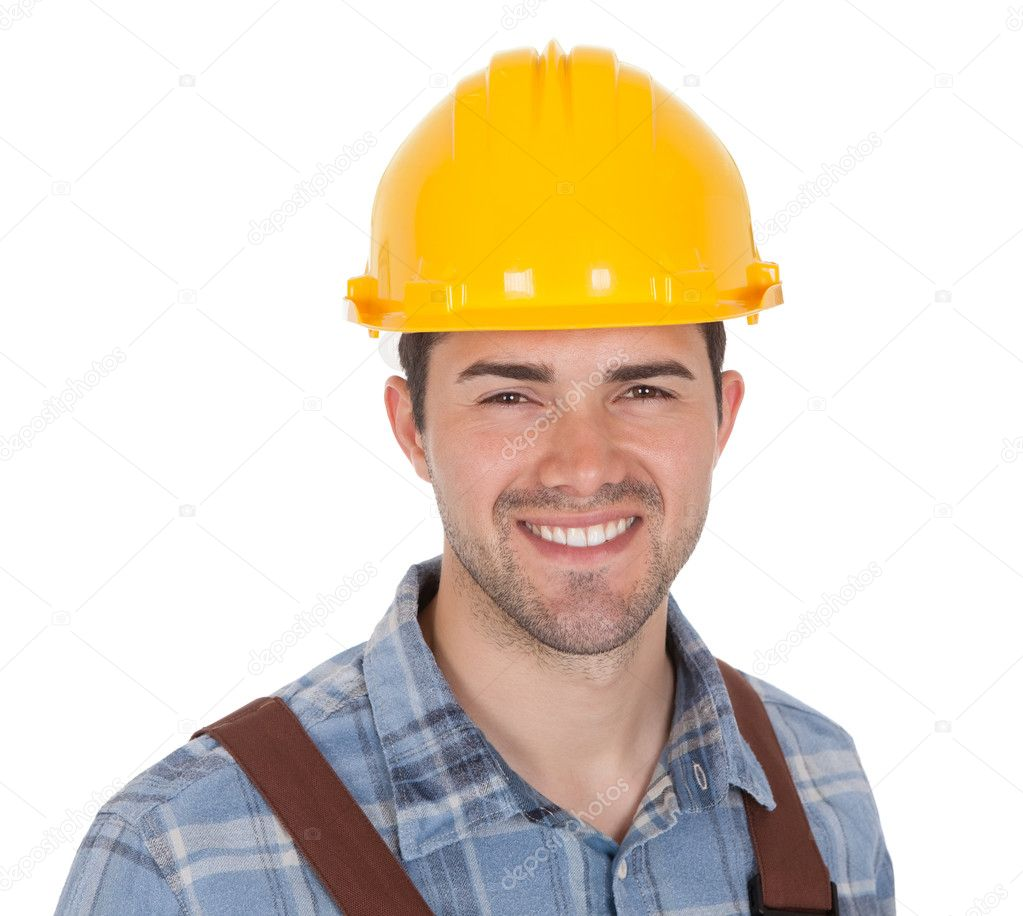Safety Helmet: (335, 26, 787, 652)
